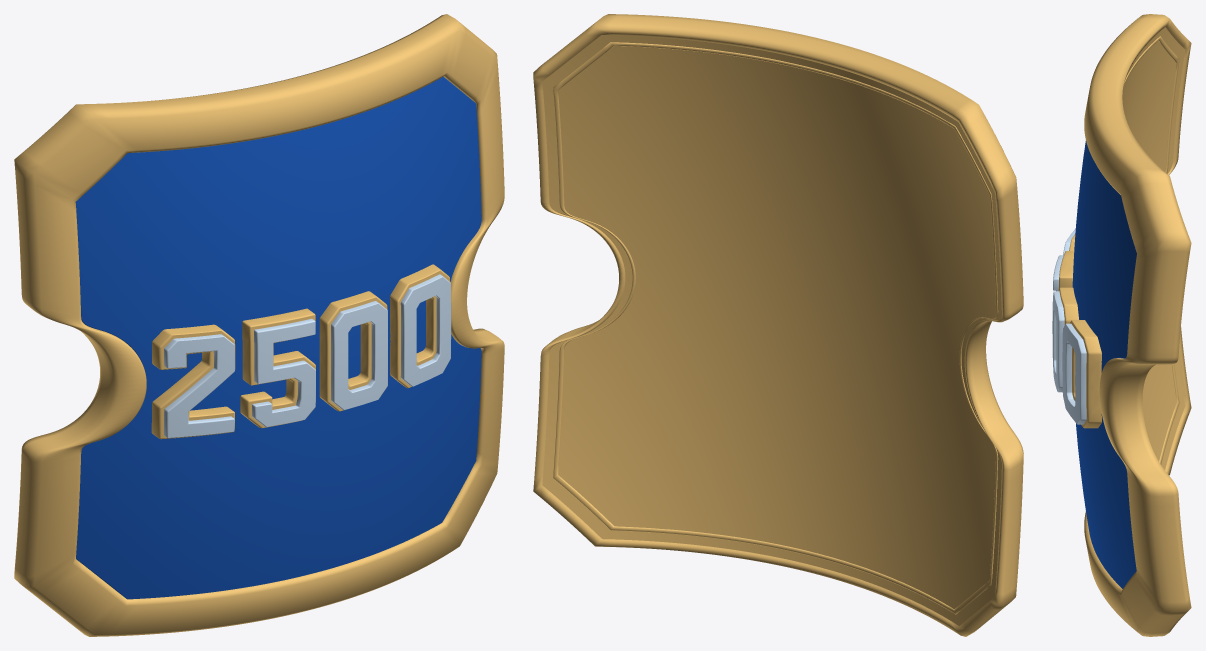
Rendered from experience-2500.glb.
3 renders of one model, left to right at view 1: azimuth 30°, elevation 25°; view 2: azimuth 150°, elevation 25°; view 3: azimuth 270°, elevation 25°, orthographic. The views are drawn at different scales.
Visible parts, largest first — view 1: acrylic_ticket_inset_conforming_006, metal_ticket_perimeter_006, ivory_number_2500_0_0_conforming, ivory_number_2500_2_0_conforming, ivory_number_2500_1_0_conforming, ivory_number_2500_3_0_conforming, metal_number_2500_0_0_conforming, metal_number_2500_1_0_conforming, metal_number_2500_2_0_conforming, metal_number_2500_3_0_conforming; view 2: satin_ticket_reverse_conforming_006, metal_ticket_perimeter_006, satin_rear_border_006; view 3: metal_ticket_perimeter_006, acrylic_ticket_inset_conforming_006, satin_ticket_reverse_conforming_006, ivory_number_2500_3_0_conforming, metal_number_2500_3_0_conforming, ivory_number_2500_2_0_conforming, satin_rear_border_006, metal_number_2500_2_0_conforming, metal_number_2500_1_0_conforming, ivory_number_2500_1_0_conforming.
Boxes of the visible parts, left/top/right/bottom form: acrylic_ticket_inset_conforming_006: left=75, top=76, right=481, bottom=599; metal_ticket_perimeter_006: left=14, top=14, right=504, bottom=636; ivory_number_2500_0_0_conforming: left=164, top=334, right=234, bottom=437; ivory_number_2500_2_0_conforming: left=331, top=301, right=387, bottom=409; ivory_number_2500_1_0_conforming: left=252, top=318, right=315, bottom=426; ivory_number_2500_3_0_conforming: left=400, top=274, right=451, bottom=386; metal_number_2500_0_0_conforming: left=151, top=324, right=235, bottom=439; metal_number_2500_1_0_conforming: left=240, top=308, right=315, bottom=428; metal_number_2500_2_0_conforming: left=319, top=291, right=387, bottom=411; metal_number_2500_3_0_conforming: left=390, top=264, right=449, bottom=388; satin_ticket_reverse_conforming_006: left=542, top=35, right=1001, bottom=625; metal_ticket_perimeter_006: left=533, top=14, right=1023, bottom=636; satin_rear_border_006: left=553, top=42, right=998, bottom=614; metal_ticket_perimeter_006: left=1084, top=14, right=1191, bottom=636; acrylic_ticket_inset_conforming_006: left=1072, top=141, right=1136, bottom=588; satin_ticket_reverse_conforming_006: left=1122, top=27, right=1185, bottom=469; ivory_number_2500_3_0_conforming: left=1062, top=323, right=1086, bottom=424; metal_number_2500_3_0_conforming: left=1070, top=320, right=1101, bottom=428; ivory_number_2500_2_0_conforming: left=1052, top=291, right=1064, bottom=392; satin_rear_border_006: left=1123, top=36, right=1179, bottom=464; metal_number_2500_2_0_conforming: left=1059, top=287, right=1078, bottom=392; metal_number_2500_1_0_conforming: left=1058, top=251, right=1074, bottom=290; ivory_number_2500_1_0_conforming: left=1052, top=255, right=1063, bottom=325.
Bounding box in the file's own units: 1.88 × 2 × 0.5442.
